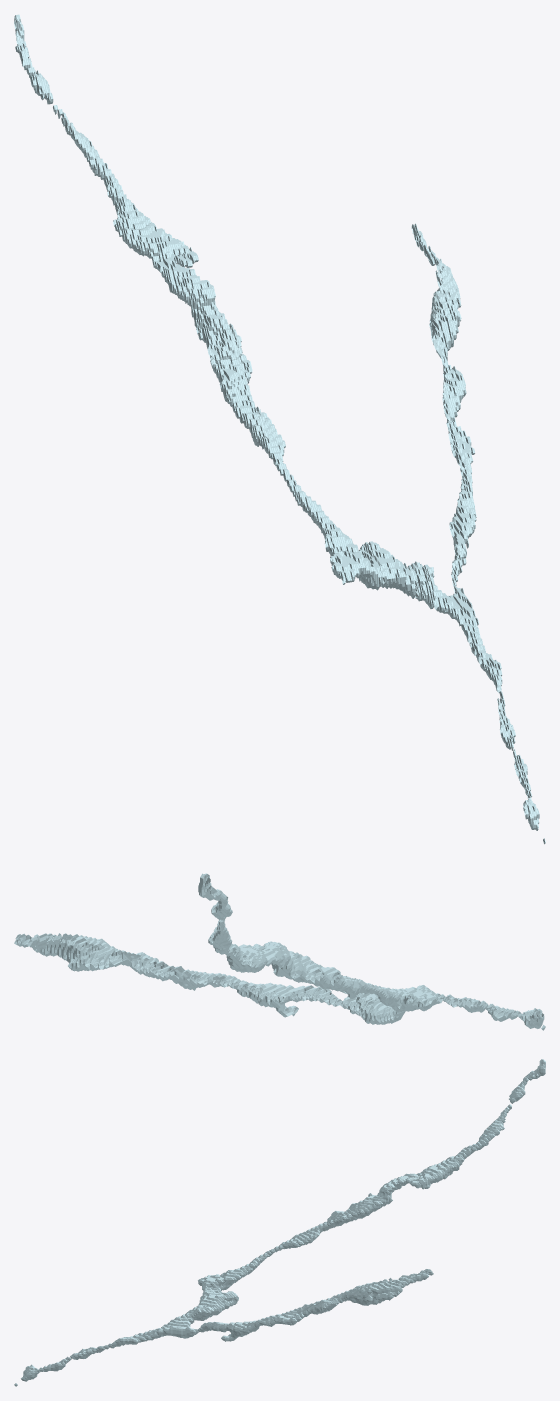
Rendered from SVV_AVM.gltf.
3 renders of one model, top to bottom at view 1: azimuth 30°, elevation 25°; view 2: azimuth 150°, elevation 25°; view 3: azimuth 270°, elevation 25°, orthographic. The views are drawn at different scales.
Parts seen in each view (by area): view 1: AVM; view 2: AVM; view 3: AVM.
Boxes of the visible parts, x1=… form: AVM: x1=14, y1=14, x2=545, y2=844; AVM: x1=14, y1=873, x2=545, y2=1030; AVM: x1=14, y1=1059, x2=545, y2=1386.
Size of the model in its own units: 68115 by 105558 by 166984.
